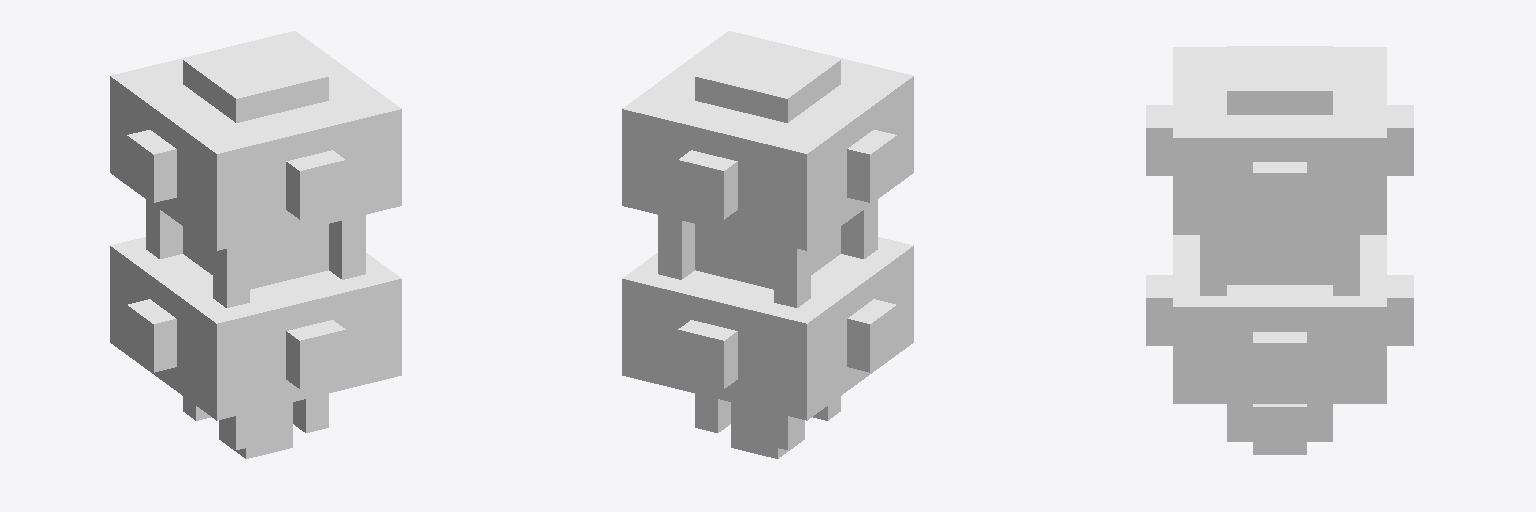
File: impetus_generator.obj
The picture shows the model from 3 angles: view 1: azimuth 30°, elevation 25°; view 2: azimuth 150°, elevation 25°; view 3: azimuth 270°, elevation 25°; orthographic projection.
Visible parts, largest first — view 1: Main_cube.006, Gem_cube.000; view 2: Main_cube.006, Gem_cube.000; view 3: Main_cube.006, Gem_cube.000.
Part boxes in pixels (x1,y1,x2,y2): Main_cube.006: (110, 31, 401, 420); Gem_cube.000: (183, 394, 328, 458); Main_cube.006: (622, 31, 913, 420); Gem_cube.000: (695, 394, 840, 458); Main_cube.006: (1146, 46, 1413, 403); Gem_cube.000: (1227, 404, 1332, 454).
Size of the model in its own units: 0.625 by 0.9688 by 0.625.